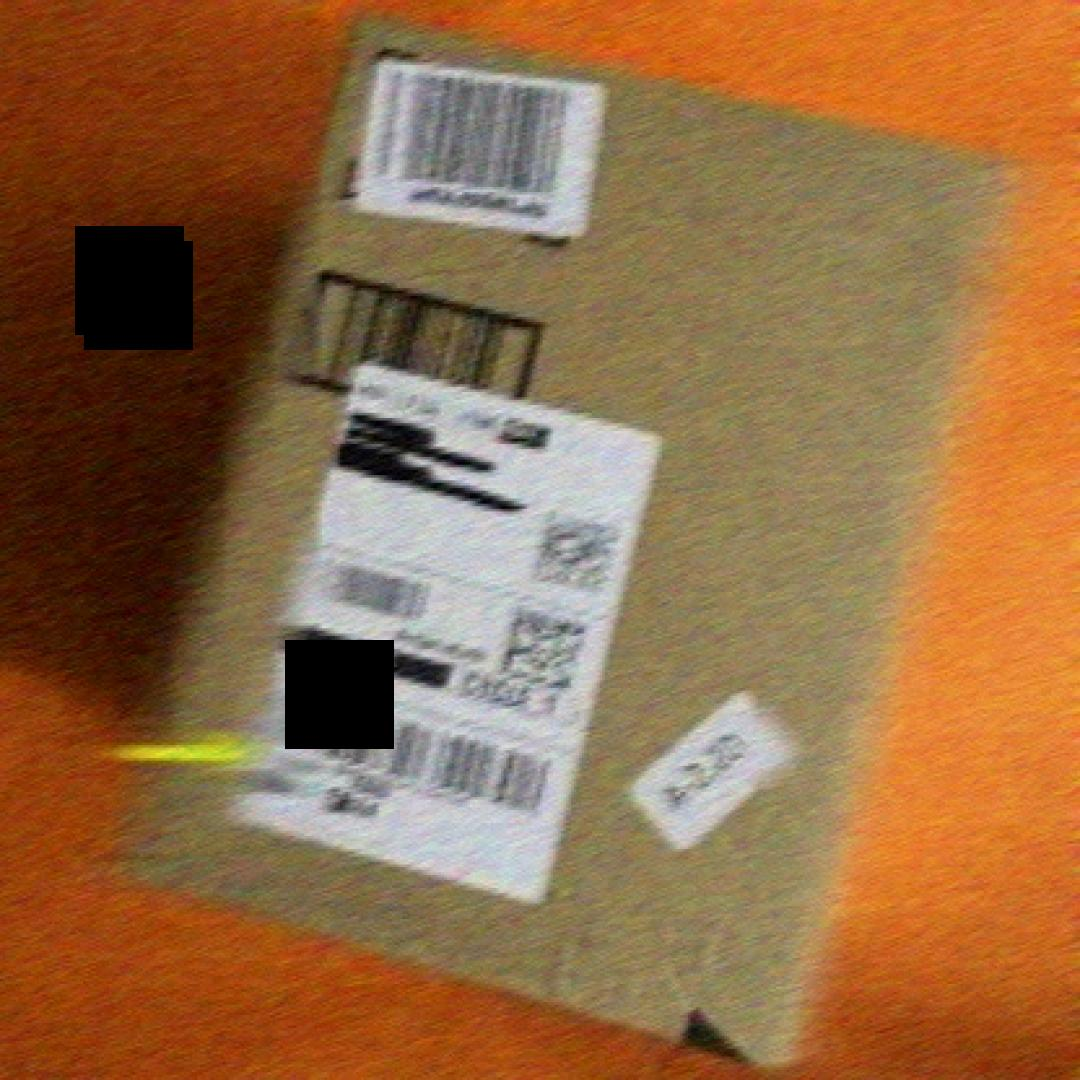package: (106, 0, 1042, 1075)
